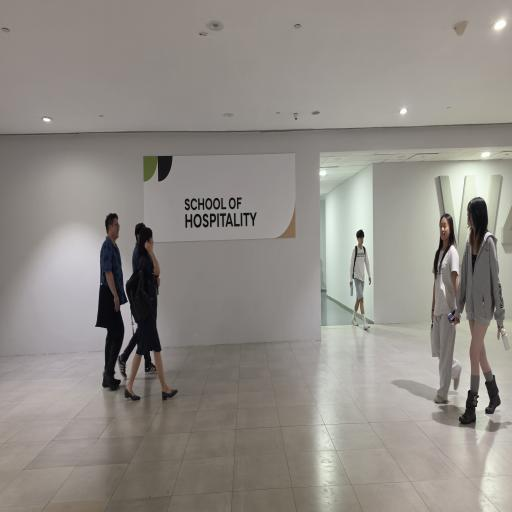person_left: (462, 191, 512, 426), (430, 203, 462, 408)
person_right: (127, 225, 168, 405), (96, 198, 122, 390)
